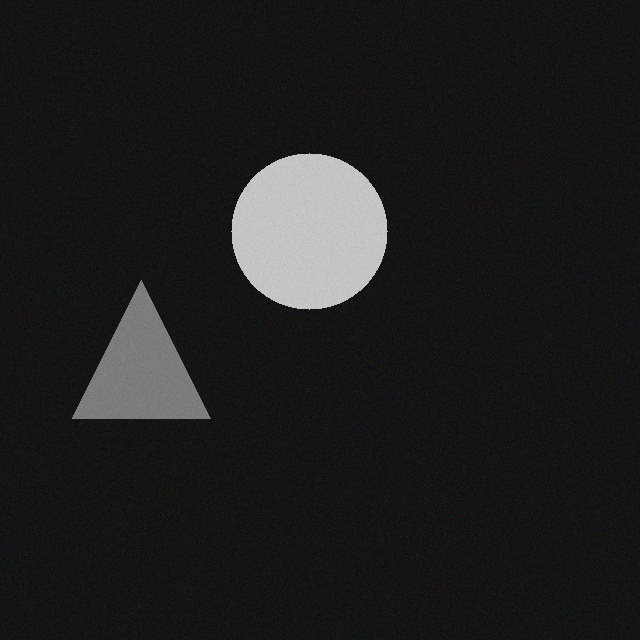circle: (237, 156, 393, 312)
triangle: (78, 283, 216, 421)
